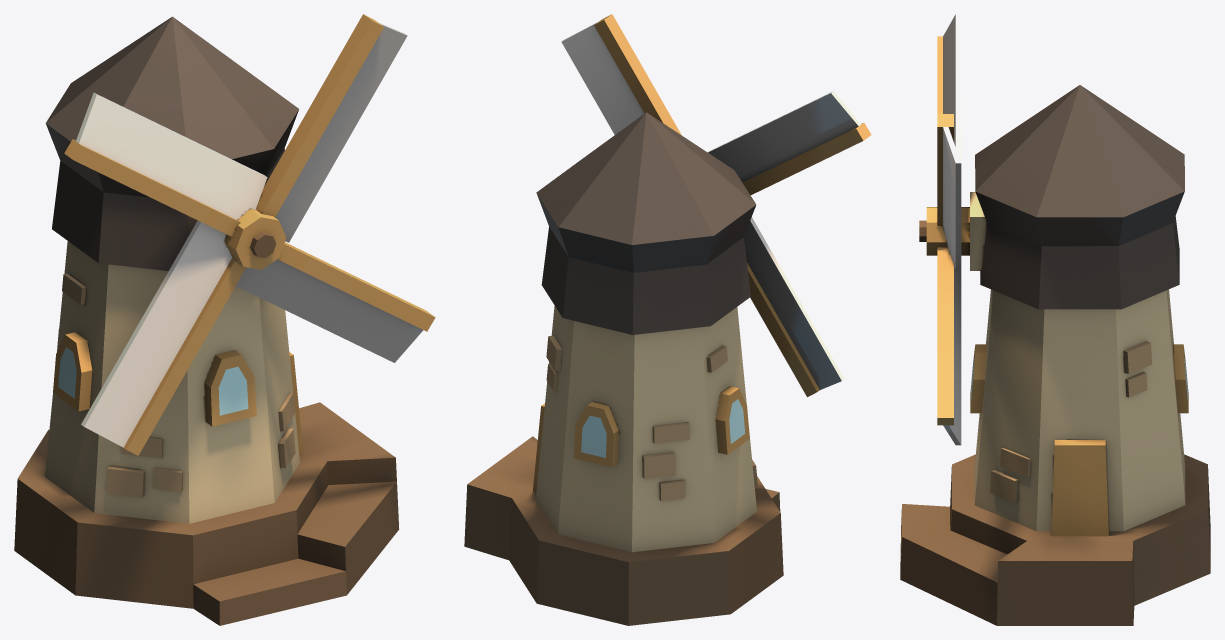
File: Molino.glb
The picture shows the model from 3 angles, left to right: view 1: azimuth 30°, elevation 25°; view 2: azimuth 150°, elevation 25°; view 3: azimuth 270°, elevation 25°; orthographic projection. The views are drawn at different scales.
Visible parts, largest first — view 1: windmill, windmill.001; view 2: windmill, windmill.001; view 3: windmill, windmill.001.
Boxes of the visible parts, <box> form: windmill: <box>14,14,434,625</box>; windmill.001: <box>64,15,435,449</box>; windmill: <box>464,14,871,625</box>; windmill.001: <box>563,16,868,140</box>; windmill: <box>900,14,1210,625</box>; windmill.001: <box>919,14,960,445</box>.
Bounding box in the file's own units: 1.63 × 2.36 × 1.36.
Materials: 1 (1 with a texture image).
